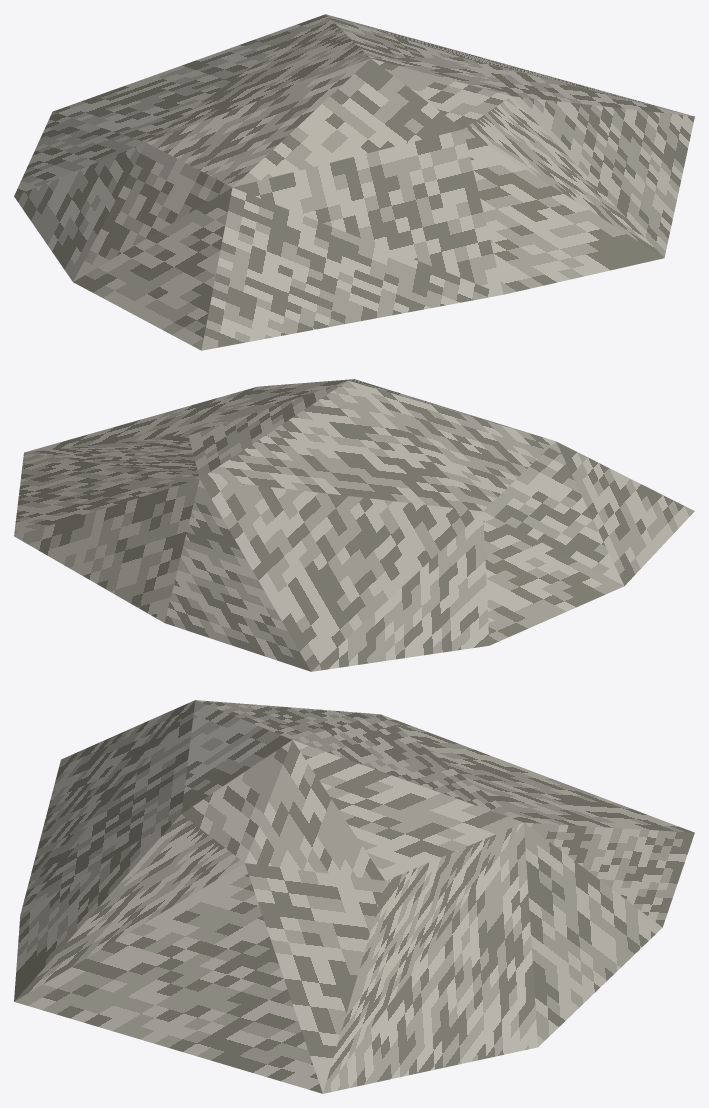
The model's file is concrete.glb.
The picture shows the model from 3 angles, top to bottom: view 1: azimuth 30°, elevation 25°; view 2: azimuth 150°, elevation 25°; view 3: azimuth 270°, elevation 25°; orthographic projection. The views are drawn at different scales.
Parts seen in each view (by area): view 1: block_premixed cement and aggregate; view 2: block_premixed cement and aggregate; view 3: block_premixed cement and aggregate.
Part boxes in pixels (x1,y1,x2,y2): block_premixed cement and aggregate: (14,14,694,350); block_premixed cement and aggregate: (14,379,694,671); block_premixed cement and aggregate: (14,700,694,1093).
Size of the model in its own units: 0.1212 by 0.0274 by 0.1.
1 material, 1 textured.
